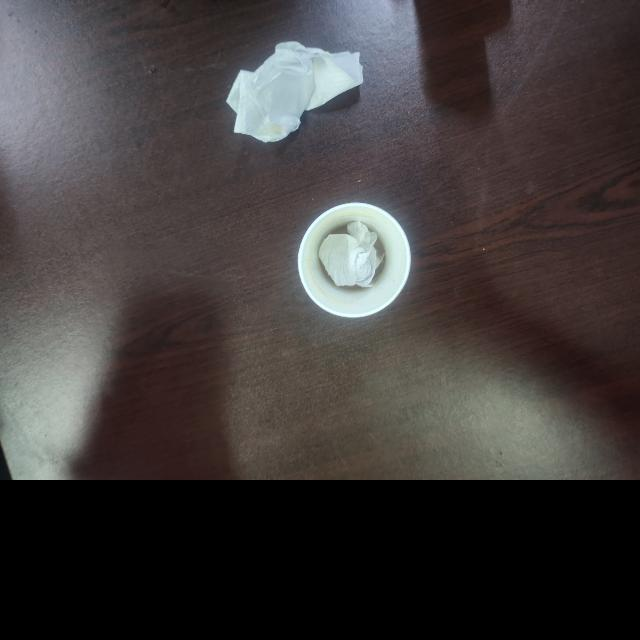kitchen paper: (228, 38, 375, 145)
